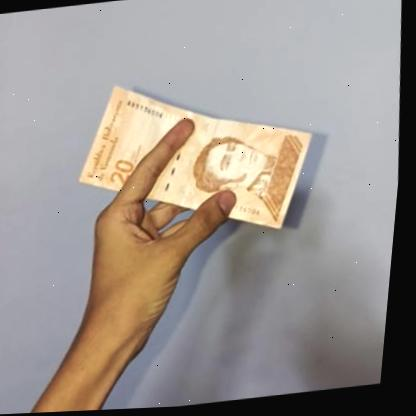twenty-front-vef: (67, 64, 326, 253)
